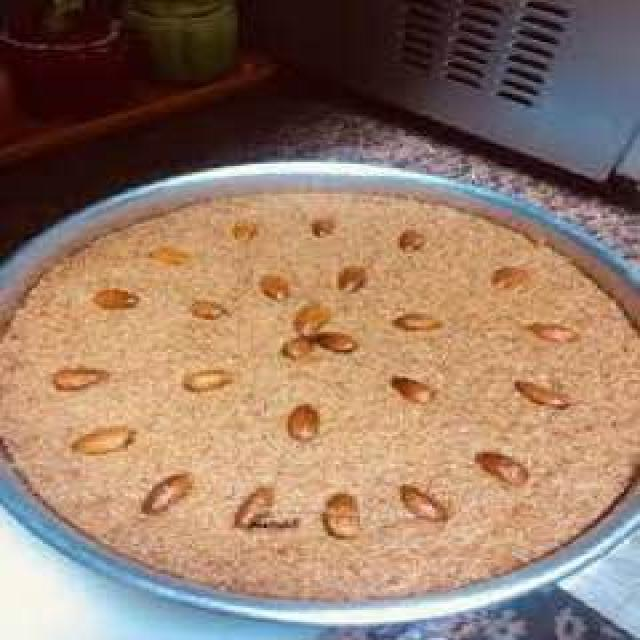pasposa: (0, 183, 640, 612)
